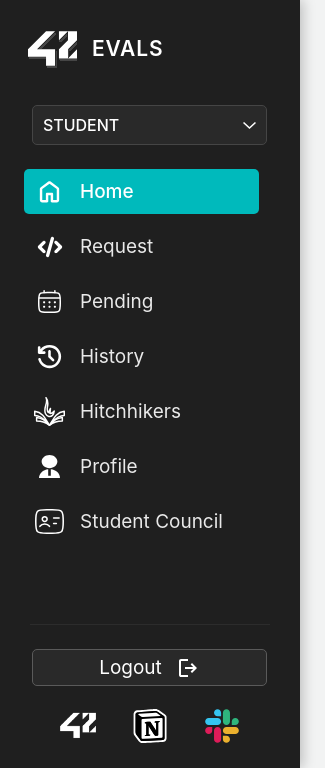
Test: Sidebar role switcher › lists only the workspaces of the user's real roles
Click the button "STUDENT".
click(150, 125)  # box [32,105,267,145]
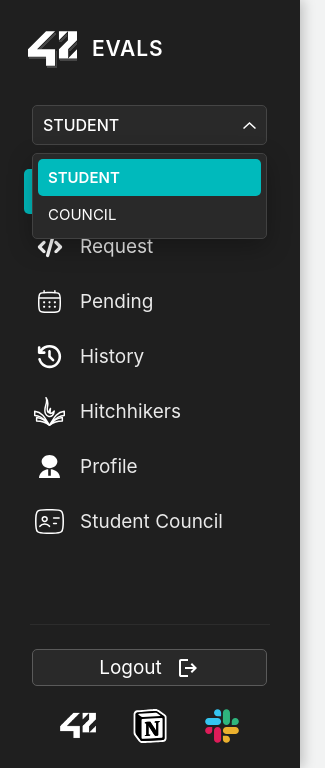
Expected: the options read "STUDENT", "COUNCIL", in this order, [38,159,261,196]; [38,196,261,233]
